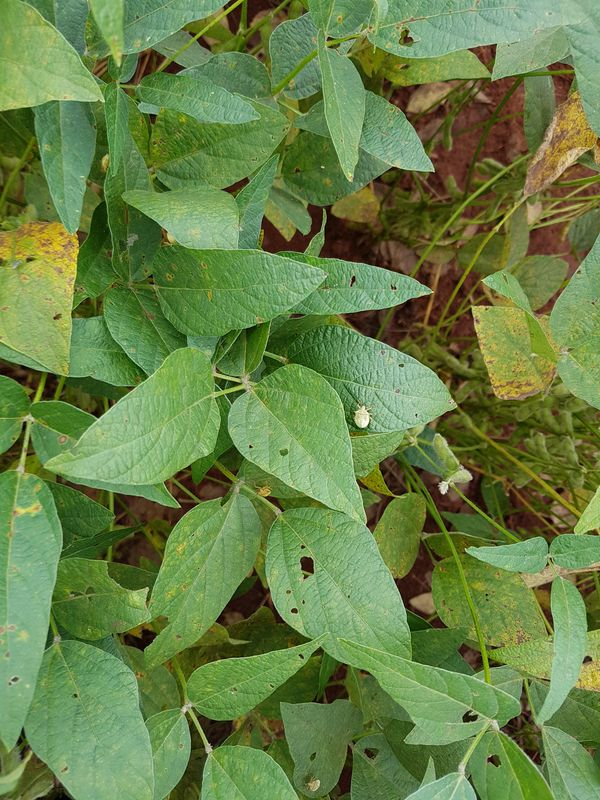Euschistus_heros_ninfa: (346, 399, 378, 433), (249, 477, 276, 501), (301, 773, 326, 796)
